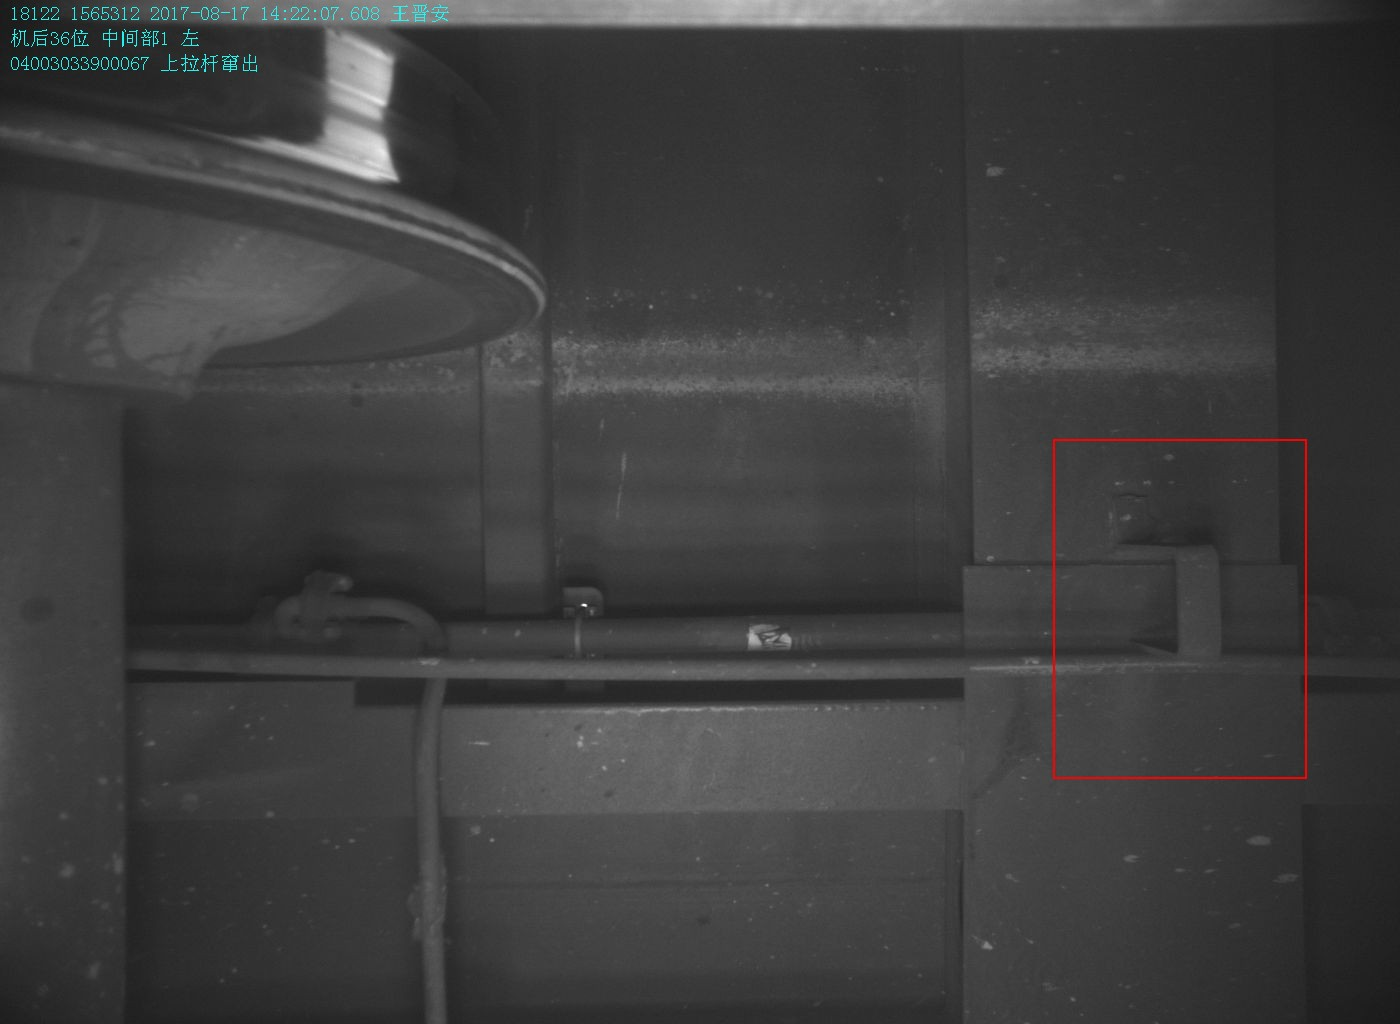Upper lever: (1105, 544, 1218, 676)
